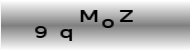9: (34, 24, 48, 39)
M: (78, 9, 99, 23)
Z: (117, 8, 135, 24)
o: (101, 18, 115, 29)
q: (58, 26, 73, 42)
